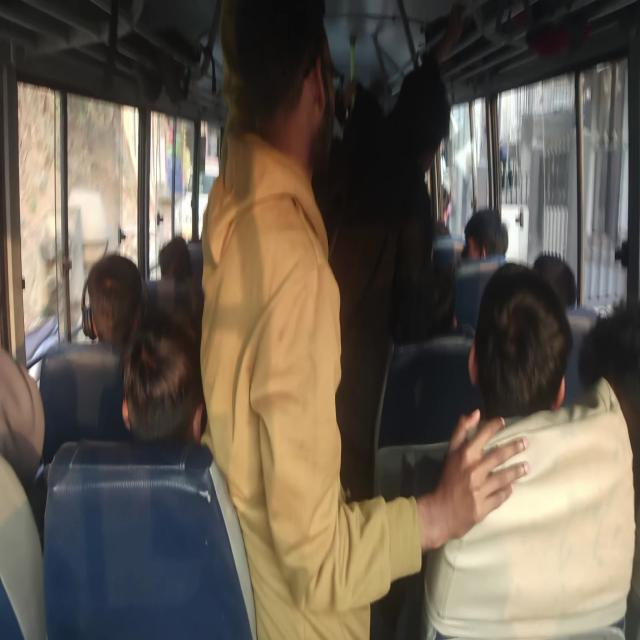person: (198, 1, 530, 638), (420, 260, 636, 638), (325, 55, 453, 504), (120, 304, 257, 638), (38, 253, 145, 461), (121, 305, 207, 446), (0, 344, 45, 491), (82, 252, 144, 354), (156, 236, 199, 316), (532, 252, 576, 310), (460, 208, 508, 261), (158, 235, 192, 283)
